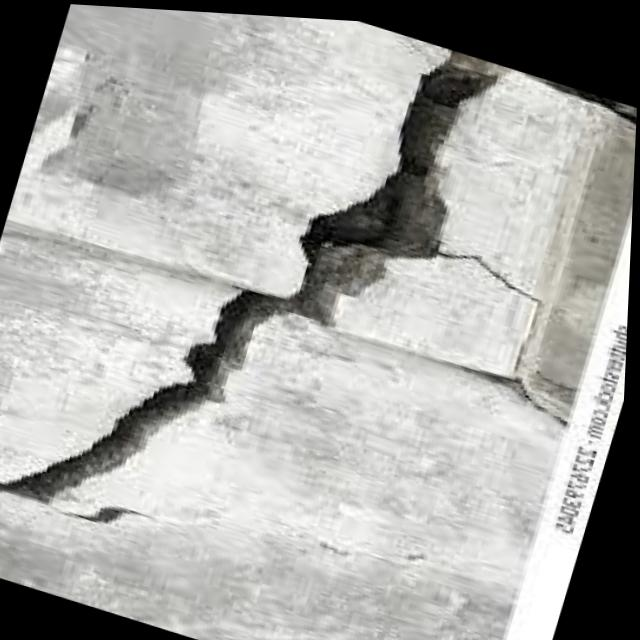Crack: (165, 8, 527, 438), (0, 268, 232, 623)
